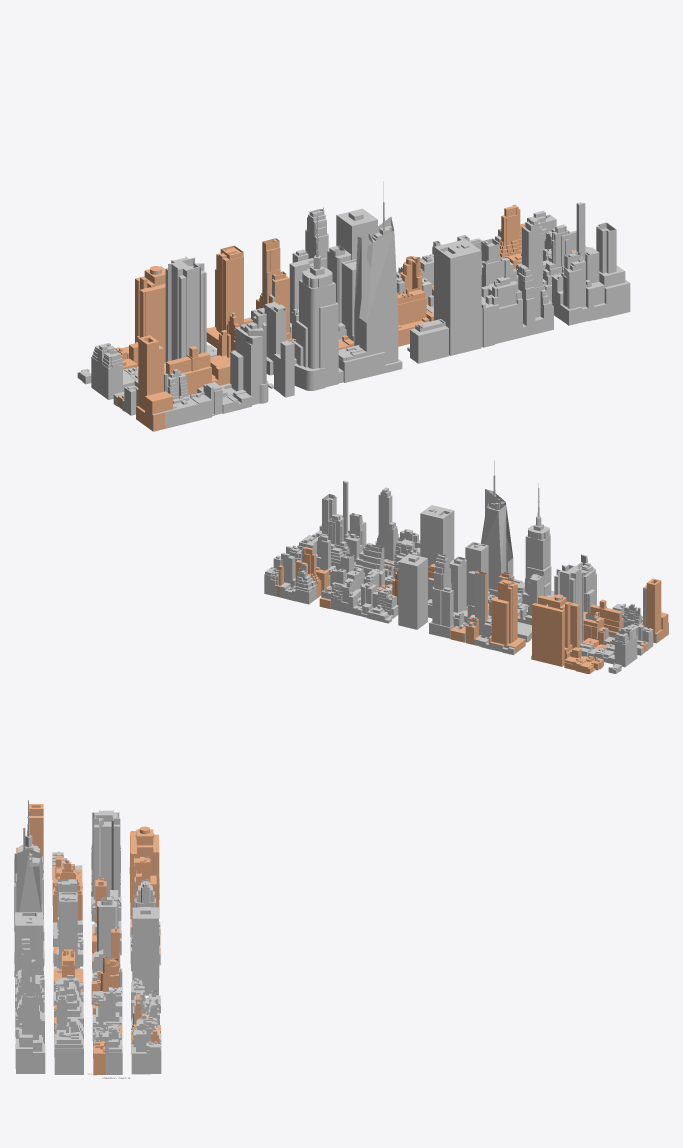
The picture shows the model from 3 angles, top to bottom: view 1: azimuth 30°, elevation 25°; view 2: azimuth 150°, elevation 25°; view 3: azimuth 270°, elevation 25°; orthographic projection. The views are drawn at different scales.
Parts seen in each view (by area): view 1: Brep-Mat_34, Brep-Mat.1_33, Brep_41, Brep-Mat_35; view 2: Brep-Mat_34, Brep-Mat.1_33, Brep_41, Brep-Mat_35, Brep-Mat_38; view 3: Brep-Mat_34, Brep_41, Brep-Mat.1_33, Brep-Mat_35, Brep-Mat_38.
Boxes of the visible parts, x1=… form: Brep-Mat_34: x1=77, y1=181, x2=630, y2=431; Brep-Mat.1_33: x1=121, y1=205, x2=527, y2=366; Brep_41: x1=115, y1=204, x2=575, y2=431; Brep-Mat_35: x1=78, y1=217, x2=605, y2=415; Brep-Mat_34: x1=264, y1=460, x2=668, y2=673; Brep-Mat.1_33: x1=278, y1=548, x2=606, y2=673; Brep_41: x1=277, y1=546, x2=668, y2=673; Brep-Mat_35: x1=271, y1=487, x2=668, y2=670; Brep-Mat_38: x1=274, y1=481, x2=490, y2=607; Brep-Mat_34: x1=14, y1=800, x2=161, y2=1074; Brep_41: x1=16, y1=804, x2=160, y2=1075; Brep-Mat.1_33: x1=53, y1=829, x2=160, y2=1053; Brep-Mat_35: x1=14, y1=810, x2=159, y2=1044; Brep-Mat_38: x1=15, y1=943, x2=161, y2=1053.
Bounding box in the file's own units: 1.28e+07 × 3743774 × 1.35e+07.
